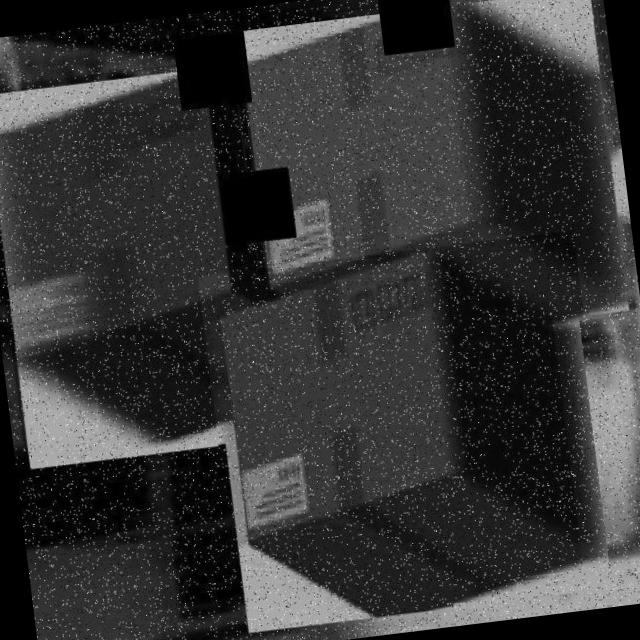box: (197, 230, 618, 638), (227, 0, 634, 358), (0, 54, 283, 473)
